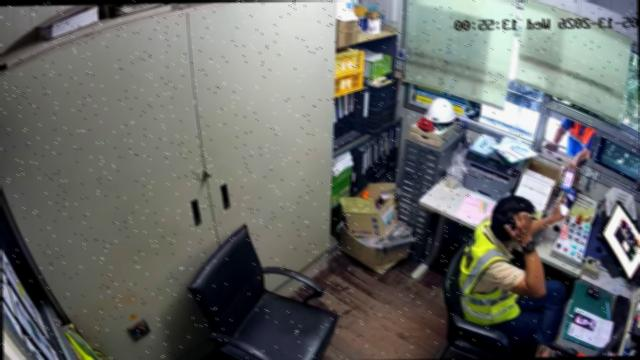Head: (488, 196, 535, 240)
People: (458, 197, 566, 351)
Phone: (557, 187, 576, 214), (570, 313, 595, 329), (559, 168, 576, 189)
